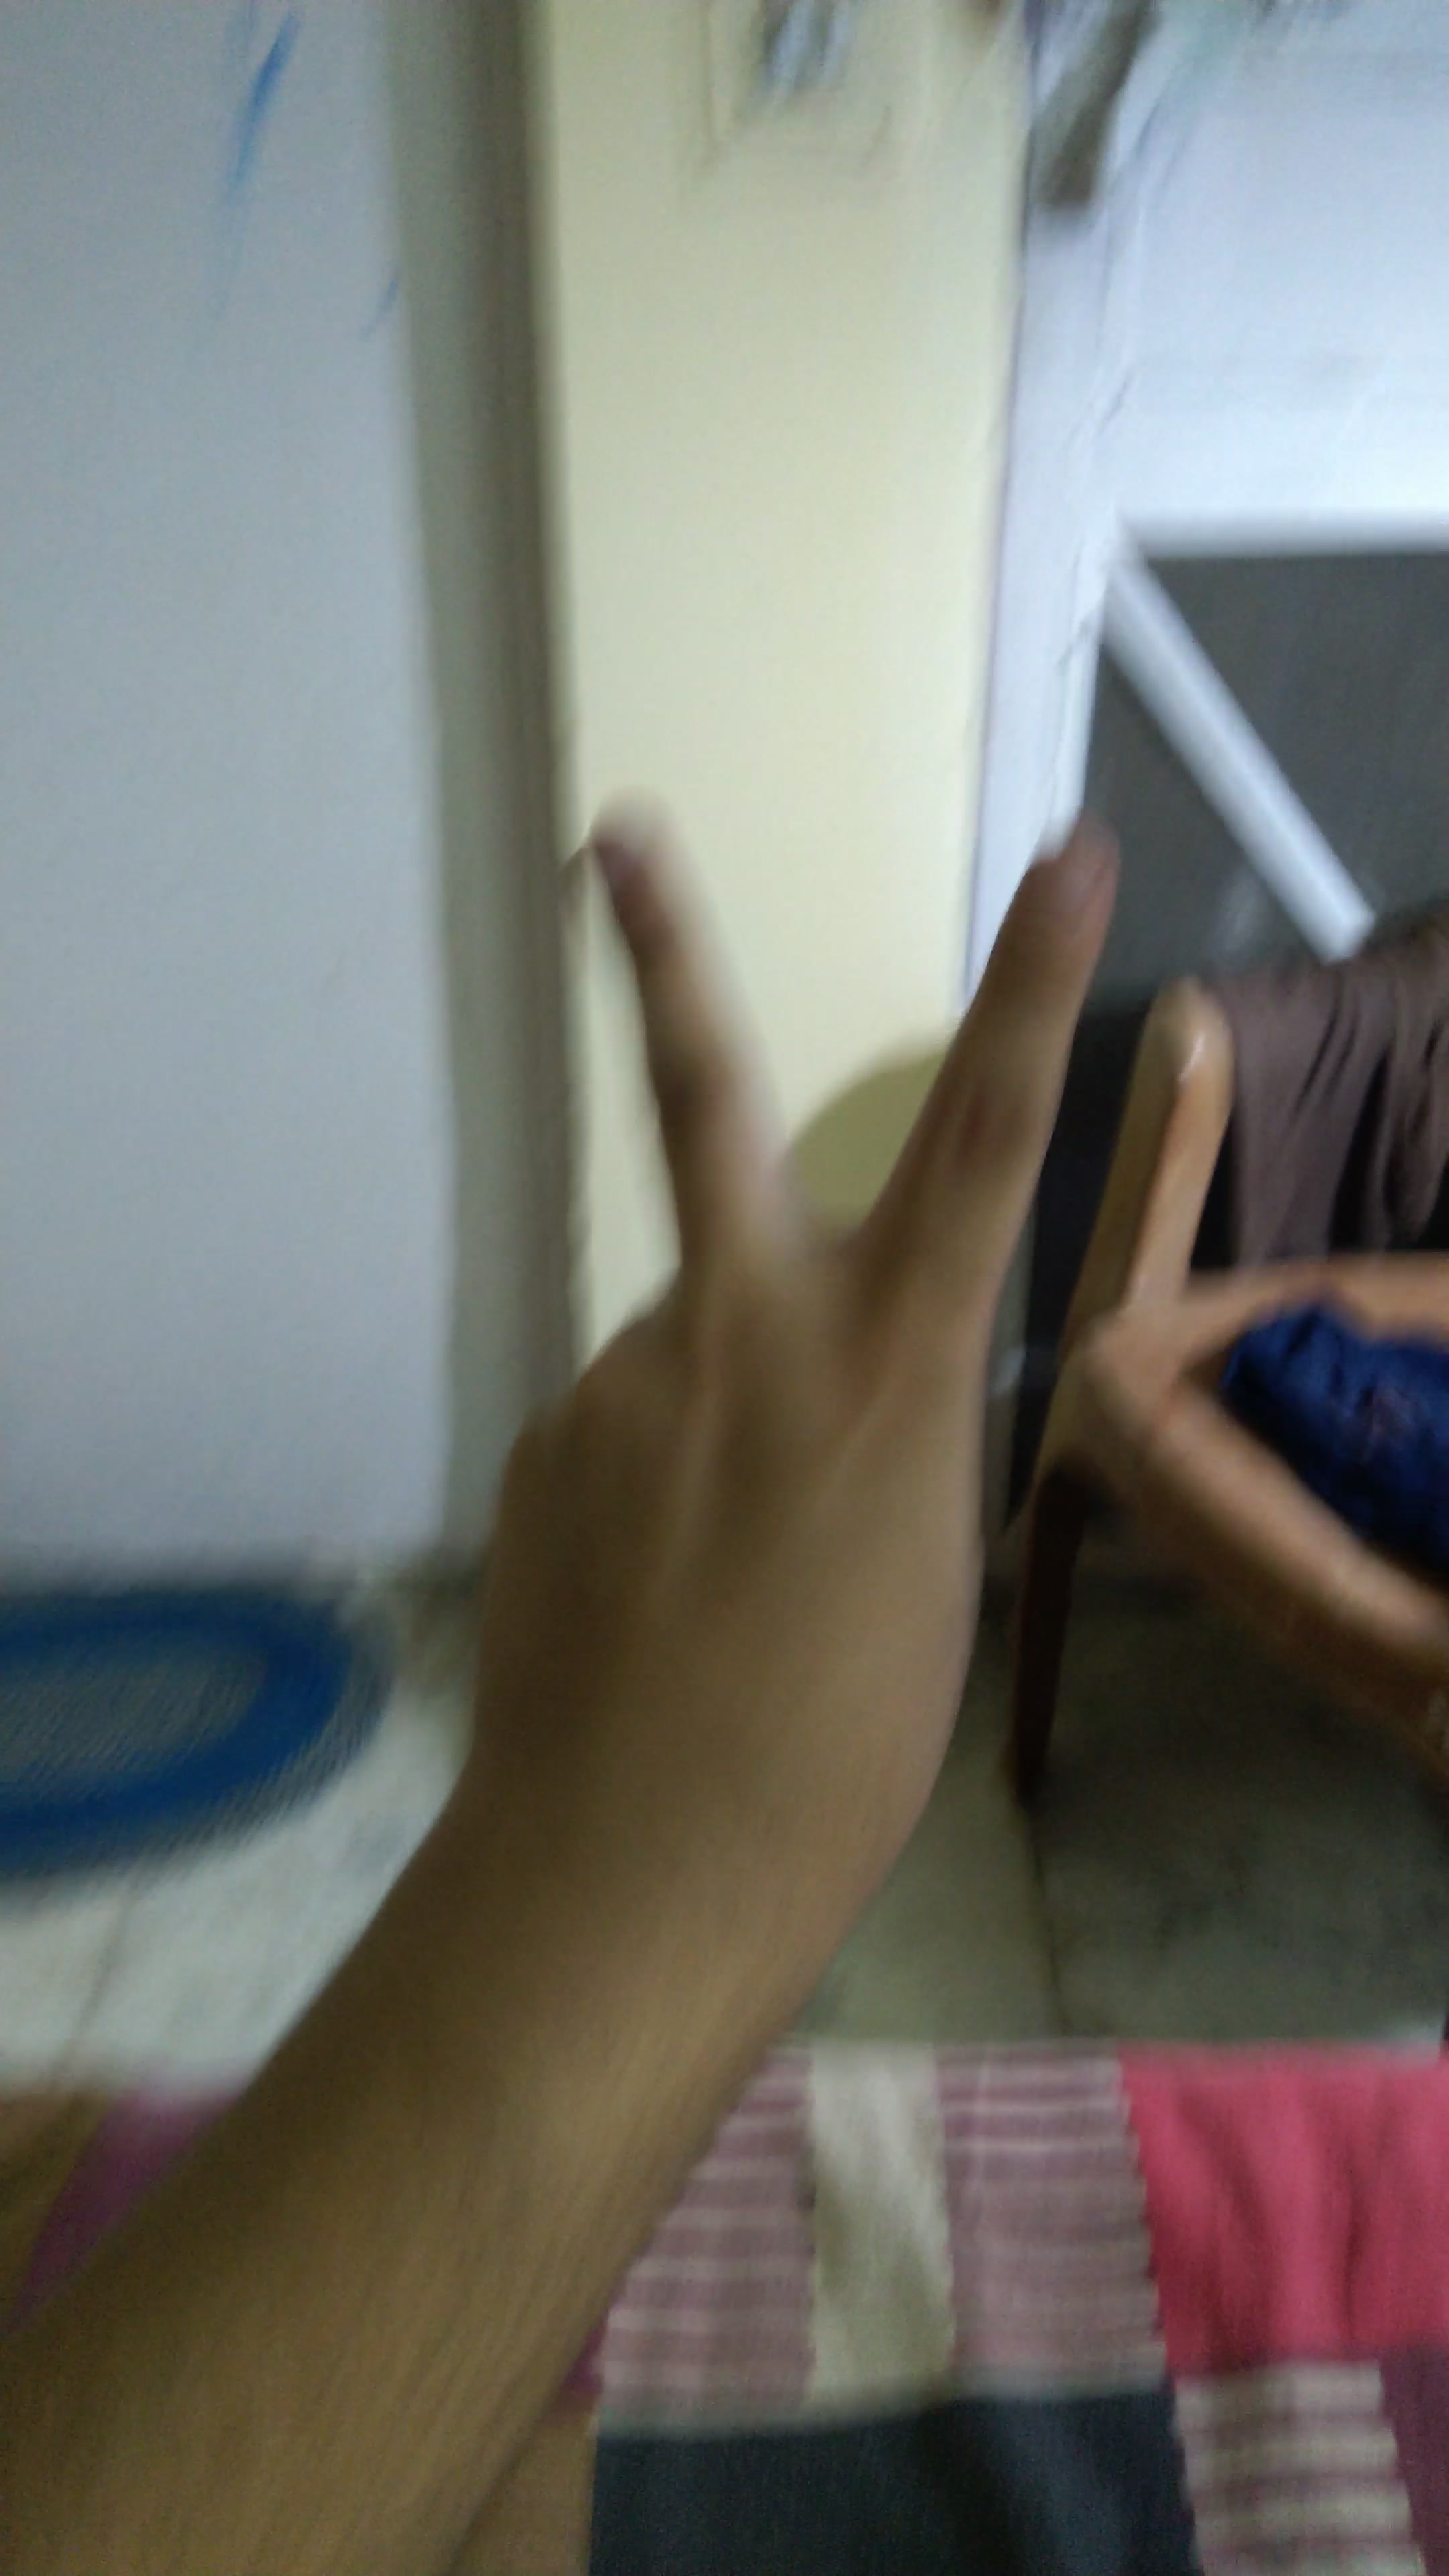hand: (317, 764, 1261, 1971)
